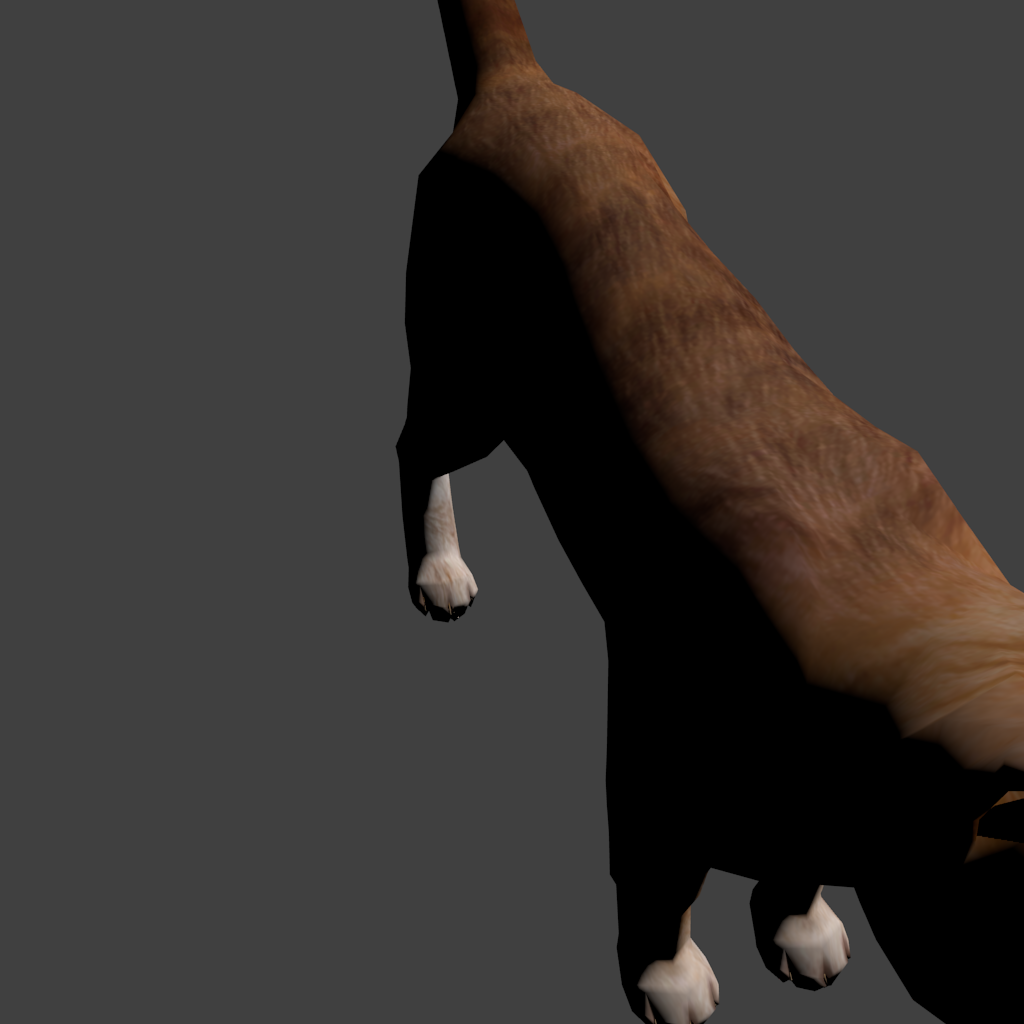Cat: (381, 0, 643, 1024)
